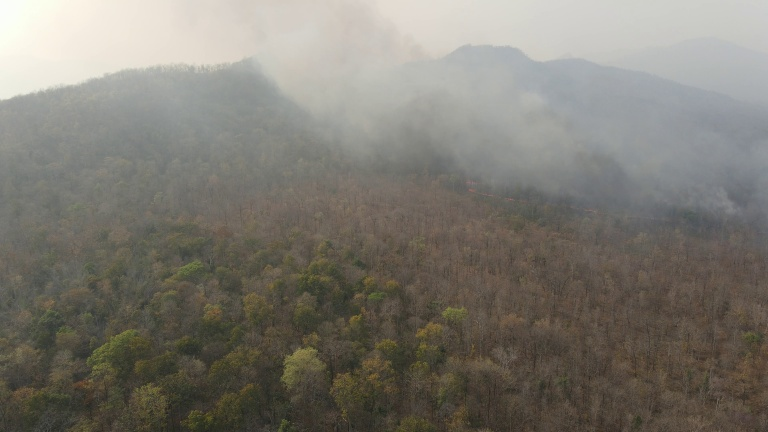fire: (463, 180, 524, 205)
smoke: (224, 1, 584, 196), (581, 106, 768, 211)
